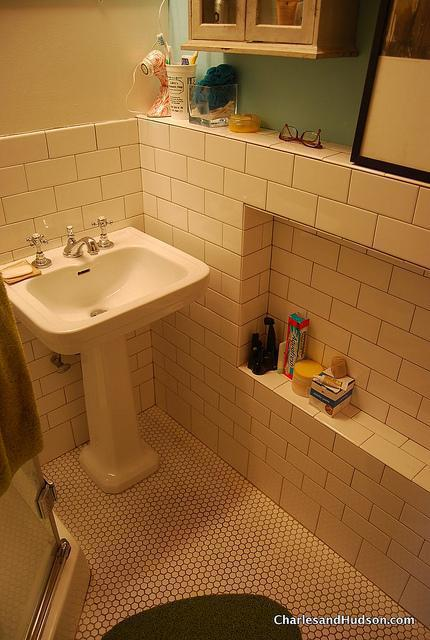Ducha: (0, 189, 70, 639)
Lavamanos: (13, 218, 208, 352)
